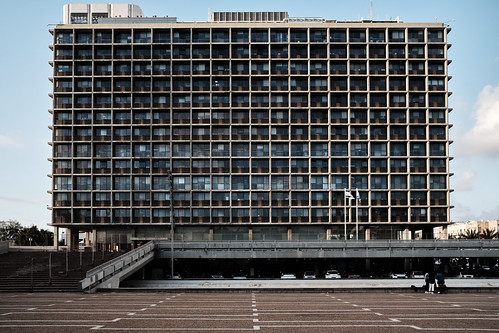building: (52, 12, 452, 235)
sky: (1, 1, 54, 212), (451, 1, 499, 216)
